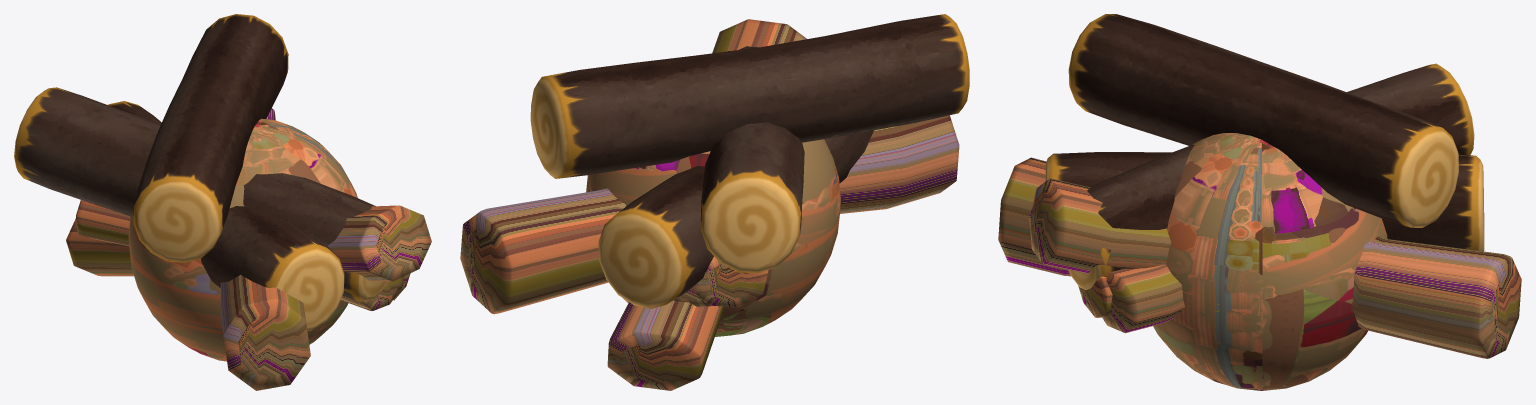
Rendered from WoodChunk_Collectable.fbx.
3 renders of one model, left to right at view 1: azimuth 30°, elevation 25°; view 2: azimuth 150°, elevation 25°; view 3: azimuth 270°, elevation 25°, orthographic. The views are drawn at different scales.
Parts seen in each view (by area): view 1: Cylinder_040_2, Cylinder_040_1, WoodChunk_Collectable, Cylinder_040, GameObject, GameObject__3_, GameObject__2_, GameObject__1_; view 2: Cylinder_040_2, GameObject, Cylinder_040_1, Cylinder_040, WoodChunk_Collectable, GameObject__3_, GameObject__2_; view 3: WoodChunk_Collectable, Cylinder_040_2, GameObject, Cylinder_040_1, GameObject__3_, Cylinder_040, GameObject__2_, GameObject__1_.
Boxes of the visible parts, x1=… form: Cylinder_040_2: x1=133, y1=14, x2=288, y2=262; Cylinder_040_1: x1=14, y1=87, x2=388, y2=301; WoodChunk_Collectable: x1=128, y1=118, x2=357, y2=361; Cylinder_040: x1=108, y1=101, x2=344, y2=331; GameObject: x1=220, y1=108, x2=310, y2=390; GameObject__3_: x1=66, y1=205, x2=431, y2=281; GameObject__2_: x1=76, y1=200, x2=410, y2=300; GameObject__1_: x1=340, y1=276, x2=404, y2=310; Cylinder_040_2: x1=530, y1=14, x2=969, y2=178; GameObject: x1=460, y1=115, x2=959, y2=314; Cylinder_040_1: x1=700, y1=46, x2=804, y2=273; Cylinder_040: x1=598, y1=130, x2=873, y2=308; WoodChunk_Collectable: x1=586, y1=139, x2=840, y2=336; GameObject__3_: x1=607, y1=19, x2=806, y2=390; GameObject__2_: x1=690, y1=256, x2=768, y2=307; WoodChunk_Collectable: x1=1153, y1=133, x2=1387, y2=390; Cylinder_040_2: x1=1068, y1=14, x2=1458, y2=227; GameObject: x1=998, y1=157, x2=1521, y2=358; Cylinder_040_1: x1=1068, y1=63, x2=1474, y2=289; GameObject__3_: x1=1029, y1=178, x2=1171, y2=273; Cylinder_040: x1=1045, y1=152, x2=1484, y2=251; GameObject__2_: x1=1102, y1=264, x2=1184, y2=333; GameObject__1_: x1=1078, y1=276, x2=1112, y2=317.
Size of the model in its own units: 75.75 by 63.12 by 104.
